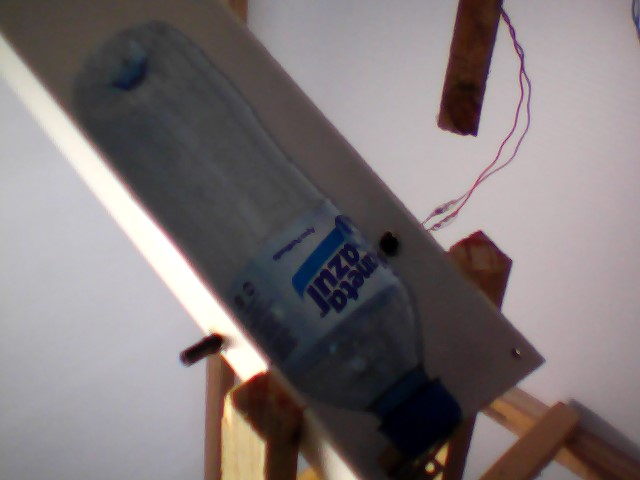plastico: (61, 21, 469, 461)
